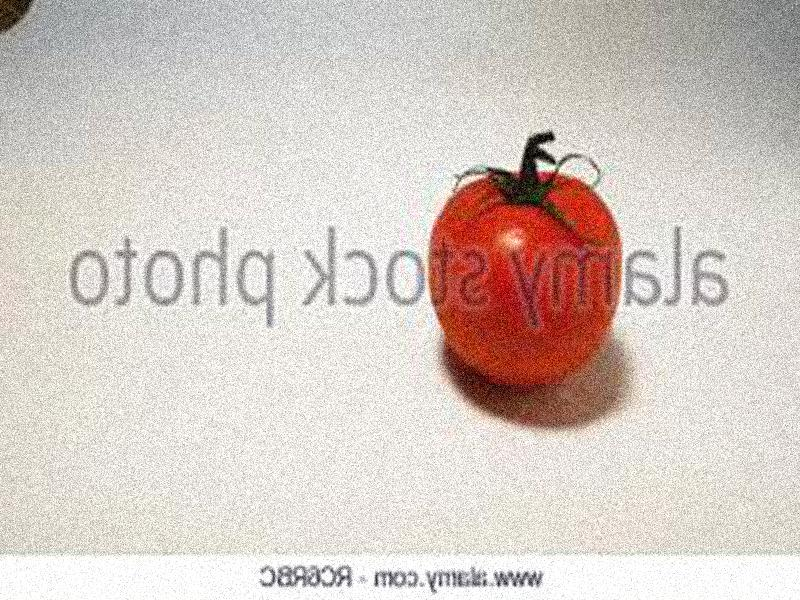Tomato: (427, 168, 621, 384)
